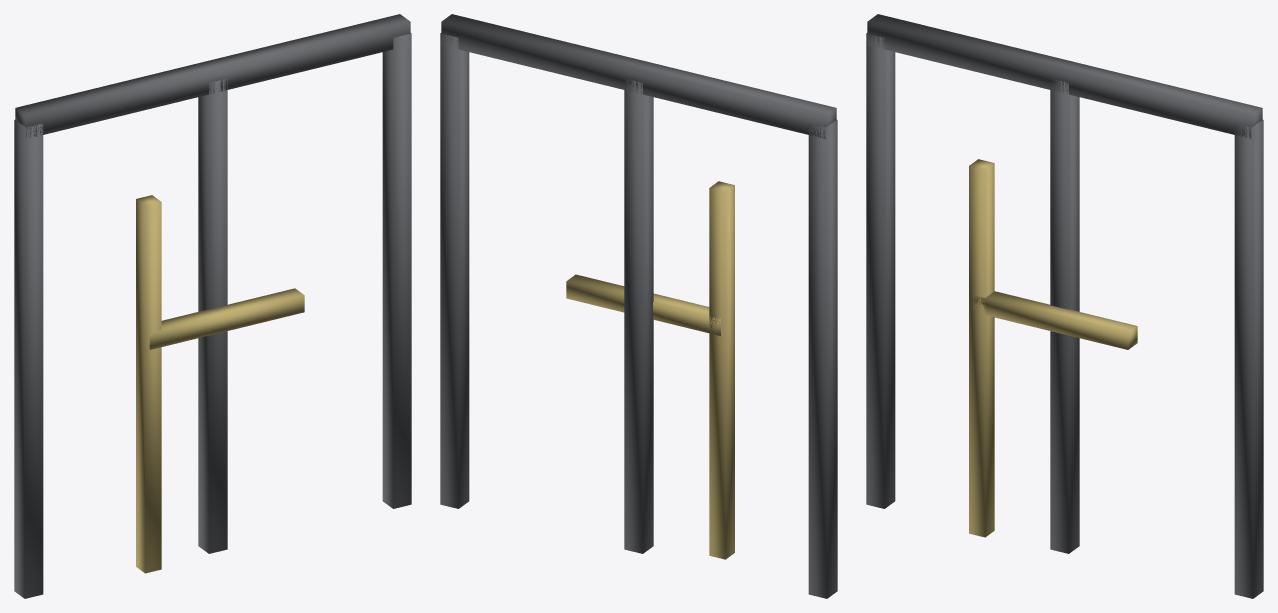
File: steel_gate_l90_h110.glb
3 views of the same model, side by side, from view 1: azimuth 30°, elevation 25°; view 2: azimuth 150°, elevation 25°; view 3: azimuth 330°, elevation 25° (orthographic).
Visible parts, largest first — view 1: world; view 2: world; view 3: world.
Part boxes in pixels (bbox=[...]): world: bbox=[14, 14, 411, 598]; world: bbox=[440, 14, 837, 598]; world: bbox=[866, 14, 1263, 598].
Bounding box in the file's own units: 0.945 × 1.13 × 0.0825.
